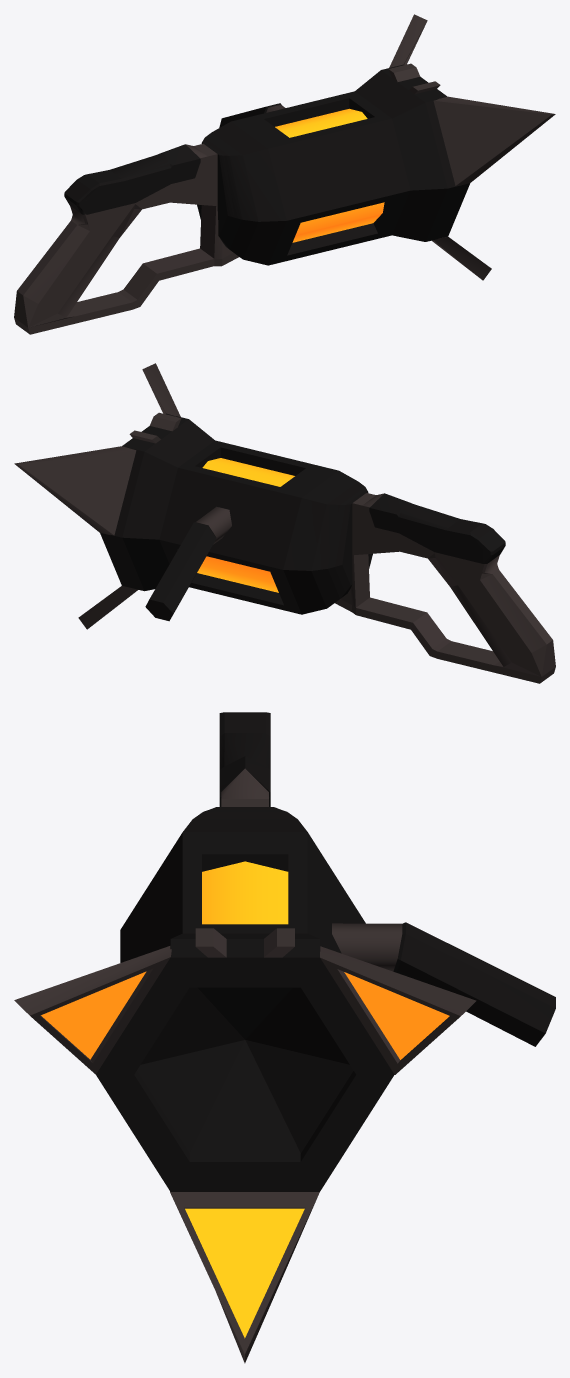
The model's file is FireOrbLauncher.fbx.
3 views of the same model, one above another, from view 1: azimuth 30°, elevation 25°; view 2: azimuth 150°, elevation 25°; view 3: azimuth 270°, elevation 25° (orthographic). The views are drawn at different scales.
Visible parts, largest first — view 1: Body, Refractors; view 2: Body, Refractors; view 3: Body, Refractors.
Part boxes in pixels (left/top/right/bottom): Body: left=14, top=63, right=470, bottom=334; Refractors: left=389, top=14, right=555, bottom=280; Body: left=100, top=412, right=555, bottom=683; Refractors: left=14, top=363, right=180, bottom=629; Body: left=96, top=712, right=555, bottom=1191; Refractors: left=14, top=946, right=476, bottom=1363.
Bounding box in the file's own units: 915 × 408 × 542.
